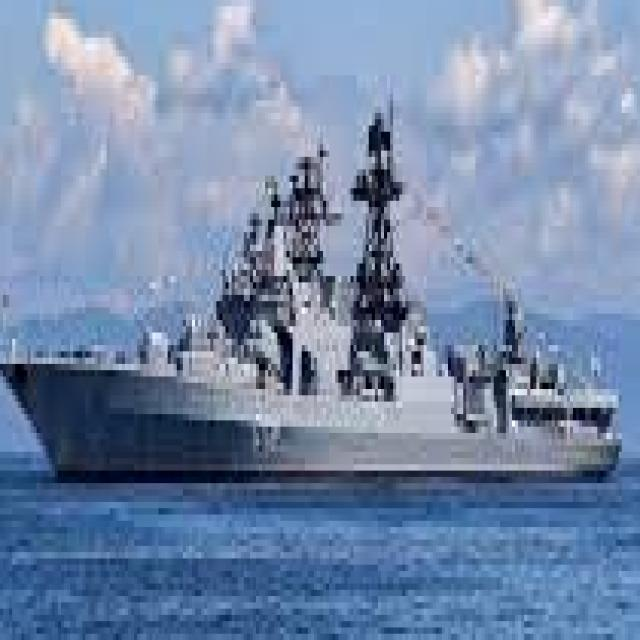navalvessels: (0, 38, 625, 496)
